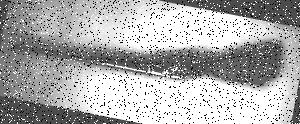knife: (1, 0, 300, 124)
